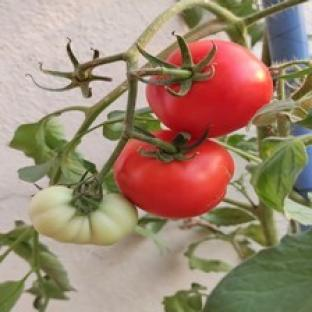Tomato: (147, 41, 272, 136), (115, 140, 233, 218), (30, 186, 137, 245)
